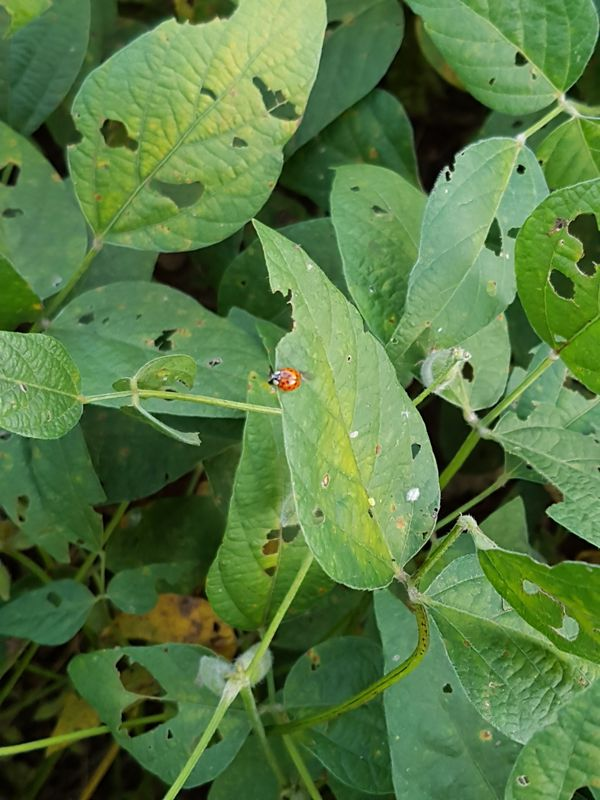Coccinellidae: (261, 361, 307, 397)
